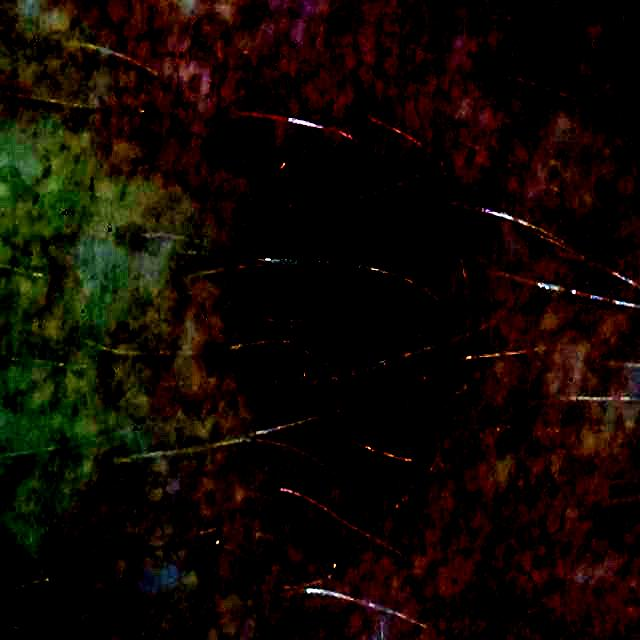BKL: (258, 144, 460, 475)
